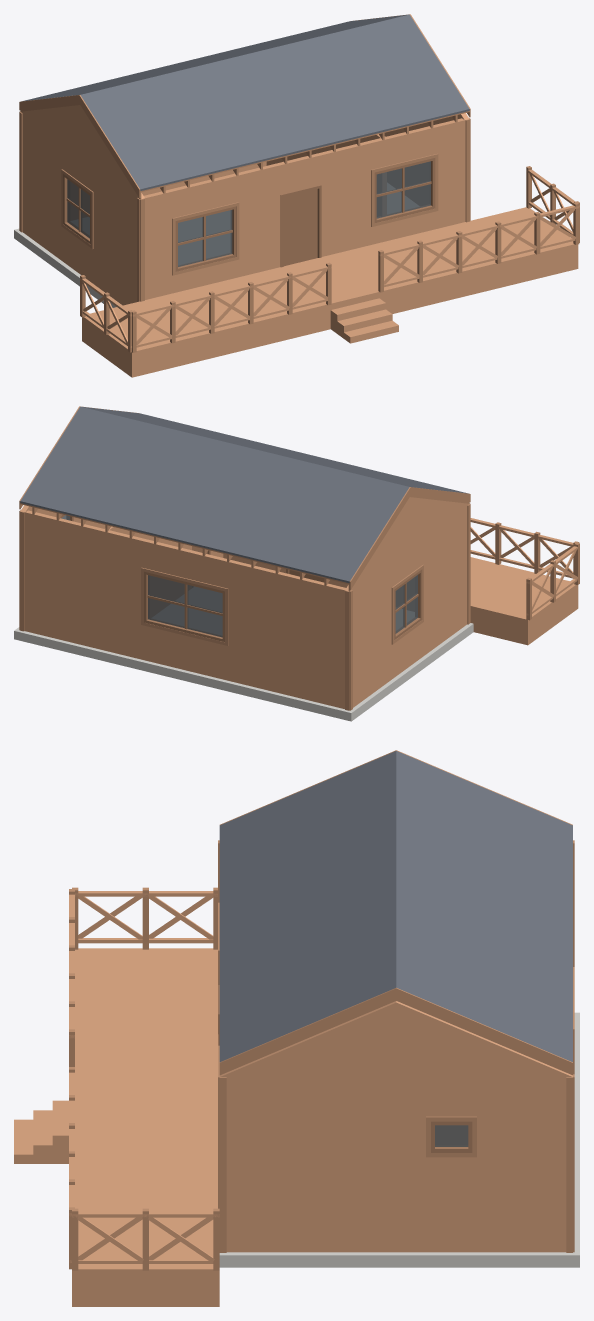
File: sample-cabin_3d.glb
The picture shows the model from 3 angles, top to bottom: view 1: azimuth 30°, elevation 25°; view 2: azimuth 150°, elevation 25°; view 3: azimuth 270°, elevation 25°; orthographic projection. The views are drawn at different scales.
Visible parts, largest first — view 1: wood, roof_tiles, trim, glass, frame, slab, door, wood_in, sheathing, rafters; view 2: wood, roof_tiles, slab, trim, glass, frame, wood_in, sheathing, rafters; view 3: wood, roof_tiles, trim, slab, frame, glass.
Boxes of the visible parts, x1=… form: wood: x1=21, y1=105, x2=579, y2=377; roof_tiles: x1=21, y1=14, x2=469, y2=190; trim: x1=19, y1=14, x2=579, y2=352; glass: x1=67, y1=161, x2=430, y2=266; frame: x1=63, y1=145, x2=435, y2=271; slab: x1=14, y1=183, x2=418, y2=307; door: x1=283, y1=189, x2=317, y2=266; wood_in: x1=266, y1=134, x2=386, y2=216; sheathing: x1=140, y1=111, x2=469, y2=192; rafters: x1=20, y1=103, x2=457, y2=199; wood: x1=20, y1=497, x2=578, y2=708; roof_tiles: x1=20, y1=406, x2=468, y2=583; slab: x1=14, y1=587, x2=473, y2=721; trim: x1=19, y1=406, x2=579, y2=710; glass: x1=61, y1=515, x2=417, y2=637; frame: x1=60, y1=514, x2=422, y2=641; wood_in: x1=105, y1=526, x2=223, y2=617; sheathing: x1=20, y1=503, x2=349, y2=584; rafters: x1=32, y1=495, x2=469, y2=591; wood: x1=14, y1=891, x2=572, y2=1306; roof_tiles: x1=219, y1=751, x2=572, y2=1061; trim: x1=69, y1=750, x2=574, y2=1270; slab: x1=219, y1=1012, x2=579, y2=1267; frame: x1=218, y1=985, x2=472, y2=1152; glass: x1=435, y1=1125, x2=468, y2=1146.
Bounding box in the file's own units: 11.09 × 4.43 × 8.2.
